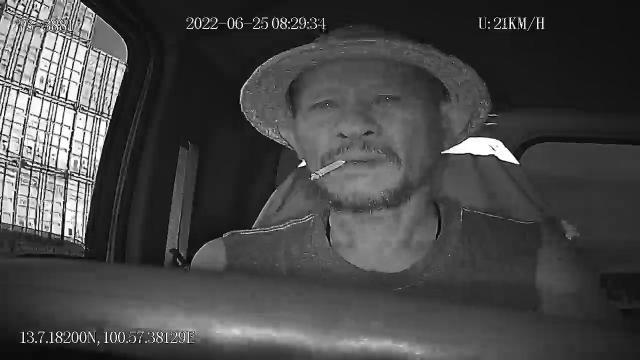SafeDriving: (365, 87, 404, 112), (308, 92, 346, 115)
Smoking: (309, 158, 347, 182)
